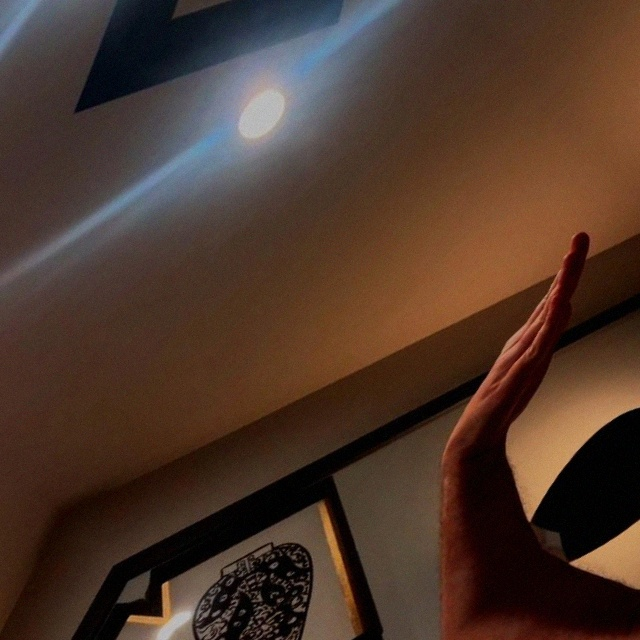Paper: (394, 229, 640, 476)
